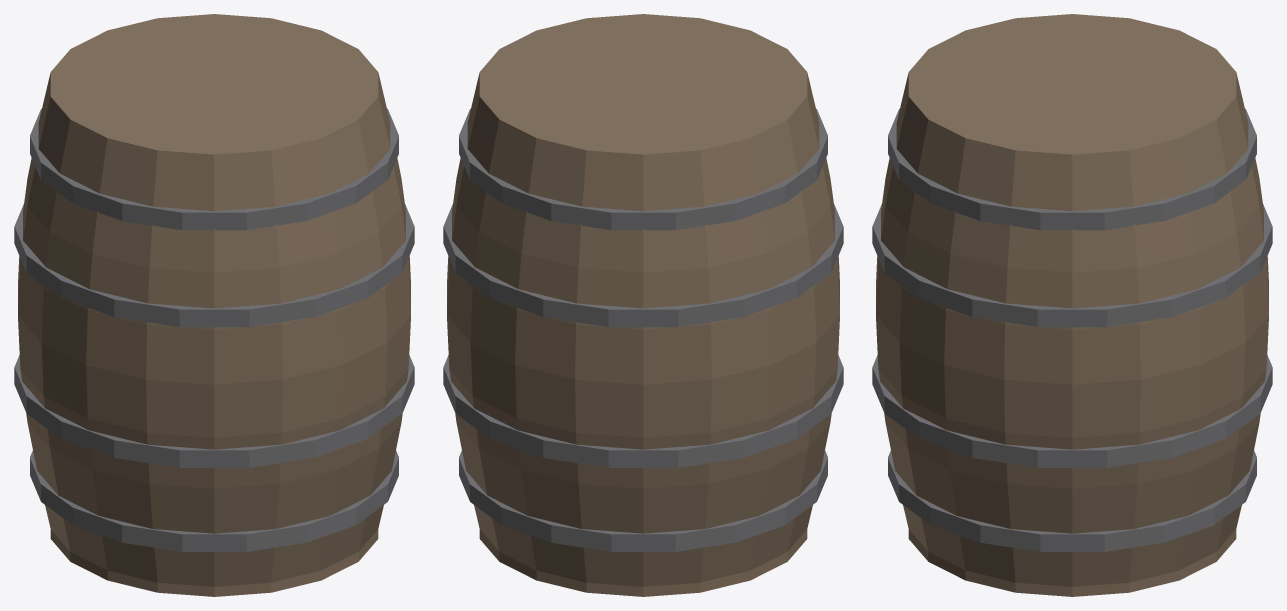
Rendered from barrel.glb.
3 renders of one model, left to right at view 1: azimuth 30°, elevation 25°; view 2: azimuth 150°, elevation 25°; view 3: azimuth 270°, elevation 25°, orthographic.
Visible parts, largest first — view 1: barrel, barrel_hoops; view 2: barrel, barrel_hoops; view 3: barrel, barrel_hoops.
Part boxes in pixels (x1,y1,x2,y2): barrel: (18, 14, 410, 596); barrel_hoops: (14, 108, 414, 551); barrel: (447, 14, 839, 596); barrel_hoops: (443, 108, 843, 551); barrel: (876, 14, 1268, 596); barrel_hoops: (872, 108, 1272, 551).
Size of the model in its own units: 0.72 by 0.88 by 0.7213.
